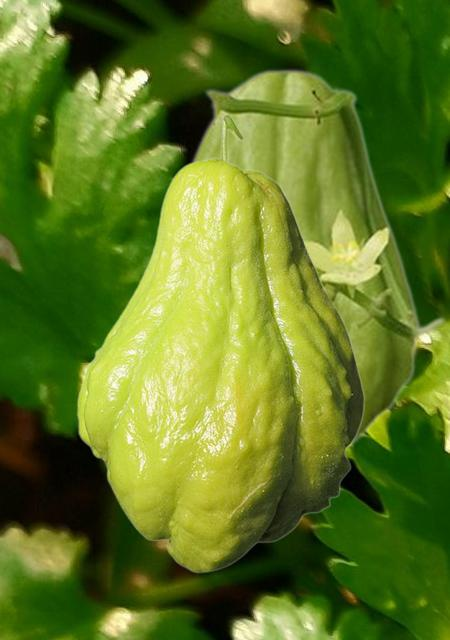sayote: (76, 114, 364, 572), (137, 68, 446, 448)
